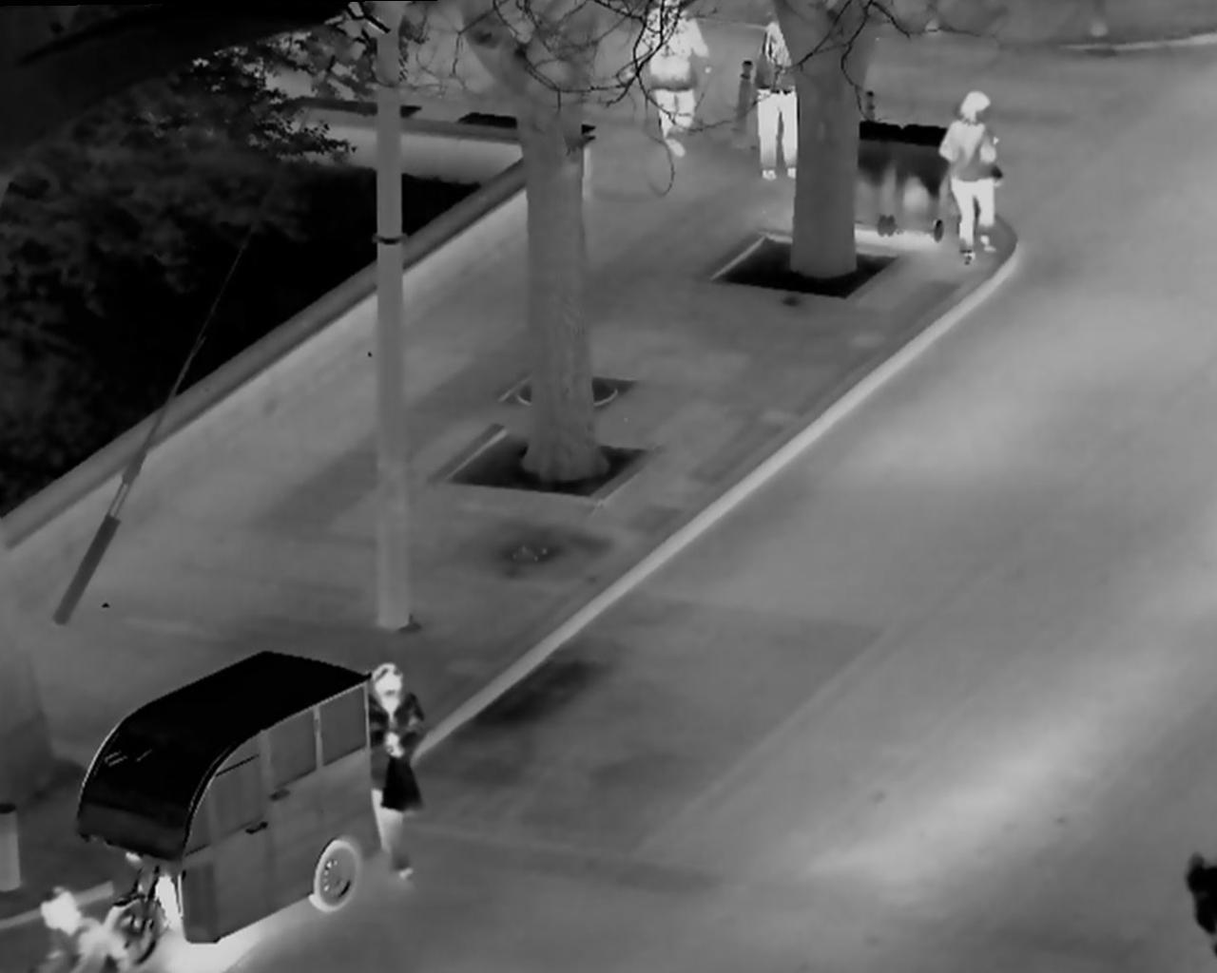person: (936, 76, 1022, 284), (361, 652, 436, 885), (744, 15, 821, 183), (634, 4, 712, 166)
